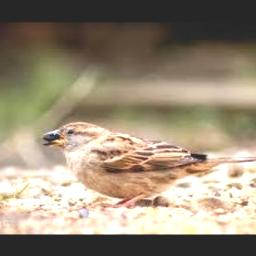Sparrow: (43, 121, 256, 208)
